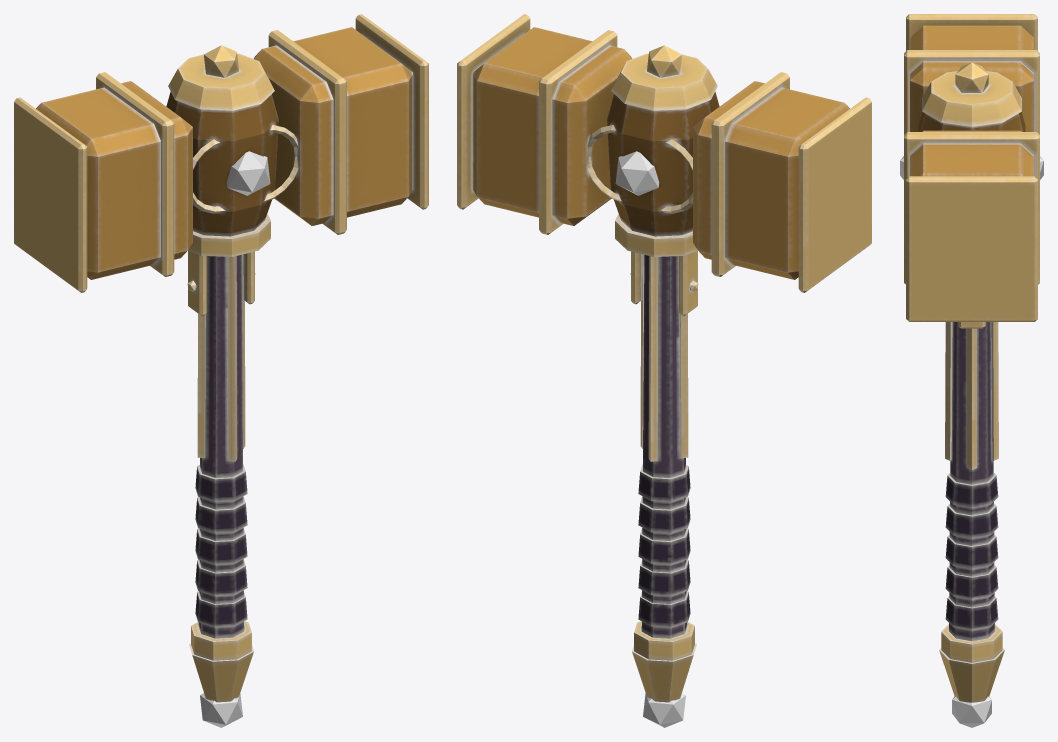
File: TitanHammerPickaxe.glb
3 views of the same model, side by side, from view 1: azimuth 30°, elevation 25°; view 2: azimuth 150°, elevation 25°; view 3: azimuth 270°, elevation 25° (orthographic). The views are drawn at different scales.
Parts seen in each view (by area): view 1: Body__Tex, Head__Gem; view 2: Body__Tex, Head__Gem; view 3: Body__Tex, Head__Gem.
Part boxes in pixels (box(x1,y1,x2,y2)): Body__Tex: box(14, 14, 428, 702); Head__Gem: box(200, 151, 270, 727); Body__Tex: box(457, 14, 871, 702); Head__Gem: box(615, 151, 685, 727); Body__Tex: box(904, 14, 1039, 702); Head__Gem: box(900, 156, 1043, 727).
Size of the model in its own units: 2.34 by 4.35 by 0.8523.
Materials: 1 (1 with a texture image).
